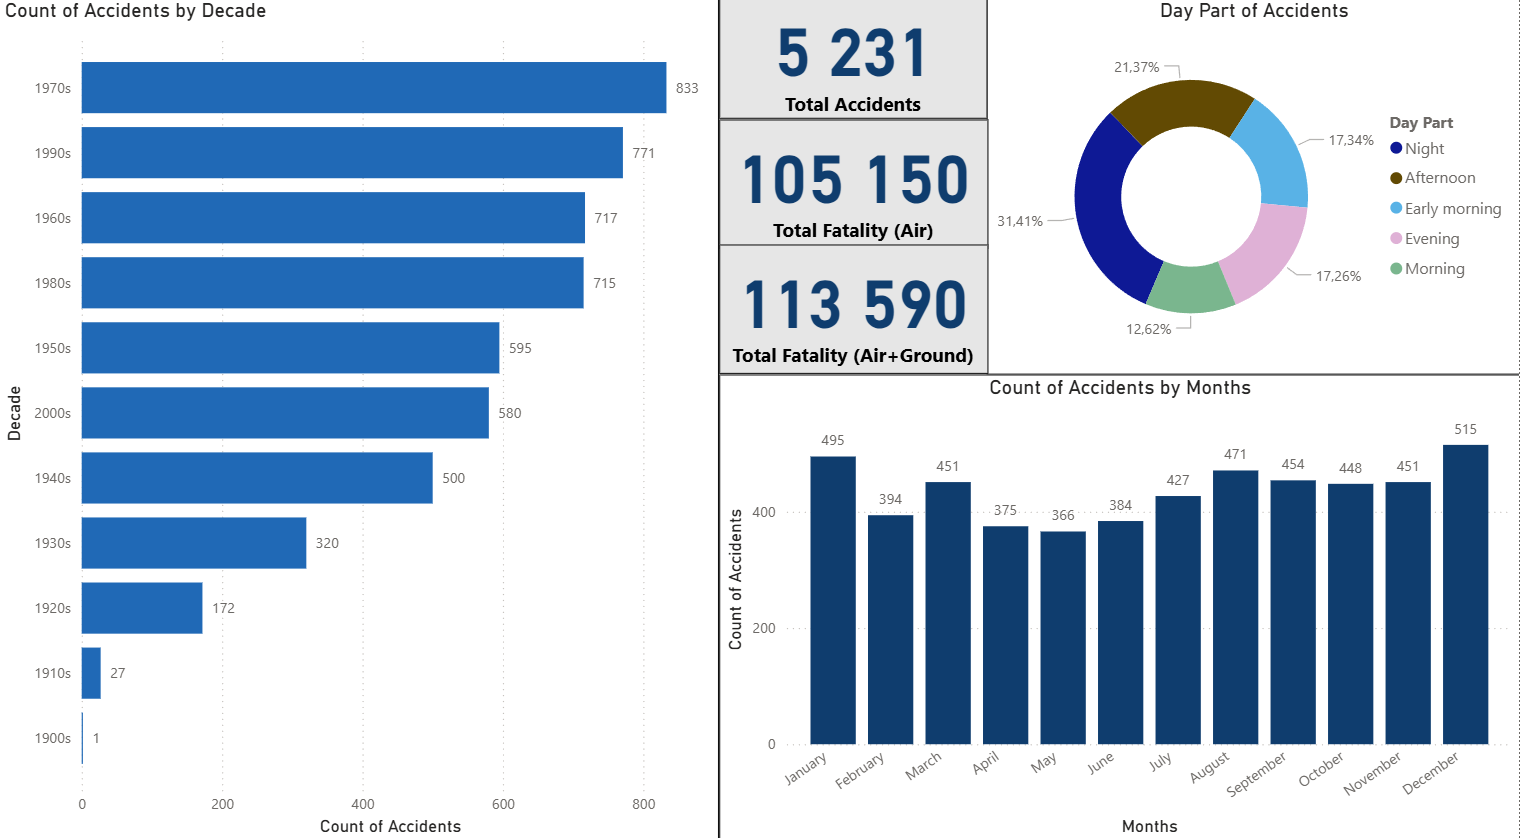

What the dashboard file says about the page in this screenshot:
{"tool":"powerbi","page":{"name":"Date Details","canvas":[1280,720],"ordinal":4},"visuals":[{"type":"donutChart","title":"Day Part of Accidents","fields":{"Category":["Airplane Crashes.Day Part"],"Y":["CountNonNull(Airplane Crashes.Date)"]},"box":[831.4,8.1,448.8,317.4],"z":0},{"type":"columnChart","fields":{"Category":["Airplane Crashes.Month"],"Y":["CountNonNull(Airplane Crashes.Date)"]},"box":[607,325.6,673.3,394.2],"z":1000},{"type":"card","fields":{"Values":["CountNonNull(Airplane Crashes.Date)"]},"box":[607,8.1,225.6,102.3],"z":2000},{"type":"card","fields":{"Values":["Sum(Airplane Crashes.Fatalities)"]},"box":[606.5,111.1,226.4,108.4],"z":3000},{"type":"card","fields":{"Values":["Sum(Airplane Crashes.Total Fatalities)"]},"box":[606.5,216.8,226.4,108.4],"z":4000},{"type":"barChart","fields":{"Category":["Airplane Crashes.Decade"],"Y":["CountNonNull(Airplane Crashes.Date)"]},"box":[0,8.4,606.7,711.8],"z":5000}]}

Visuals, with their boxes in screenshot pixels (x1, y1, x2, y2), scaled from the page's 1280x720 canvas onto the 1520x838 screenshot:
"Day Part of Accidents" donutChart: <bbox>987, 9, 1519, 379</bbox>
columnChart - Airplane Crashes.Month x CountNonNull(Airplane Crashes.Date): <bbox>721, 379, 1519, 837</bbox>
card - CountNonNull(Airplane Crashes.Date): <bbox>721, 9, 989, 128</bbox>
card - Sum(Airplane Crashes.Fatalities): <bbox>720, 129, 989, 255</bbox>
card - Sum(Airplane Crashes.Total Fatalities): <bbox>720, 252, 989, 378</bbox>
barChart - Airplane Crashes.Decade x CountNonNull(Airplane Crashes.Date): <bbox>0, 10, 720, 837</bbox>
